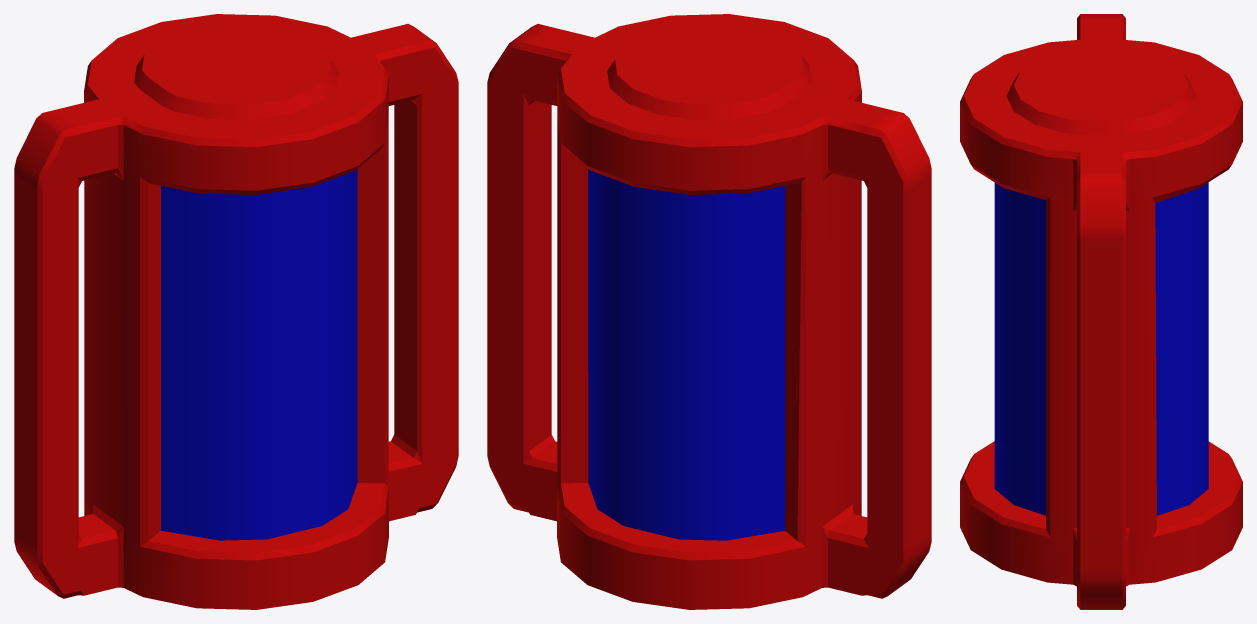
File: ScifiEnergyCell.fbx
The picture shows the model from 3 angles, left to right: view 1: azimuth 30°, elevation 25°; view 2: azimuth 150°, elevation 25°; view 3: azimuth 270°, elevation 25°; orthographic projection. The views are drawn at different scales.
Parts seen in each view (by area): view 1: Cylinder (×2); view 2: Cylinder (×2); view 3: Cylinder (×2).
Boxes of the visible parts, x1,y1,x2,y2 form: Cylinder (×2): [14, 14, 458, 609]; Cylinder (×2): [487, 14, 931, 609]; Cylinder (×2): [960, 14, 1242, 609].
Size of the model in its own units: 188 by 205 by 119.
